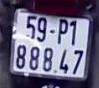1: (68, 18, 81, 48)
4: (58, 48, 70, 74)
5: (24, 15, 36, 43)
7: (71, 48, 85, 76)
8: (14, 44, 28, 70), (28, 45, 41, 71), (42, 46, 53, 73)
9: (37, 16, 48, 43)
P: (57, 18, 69, 48)
